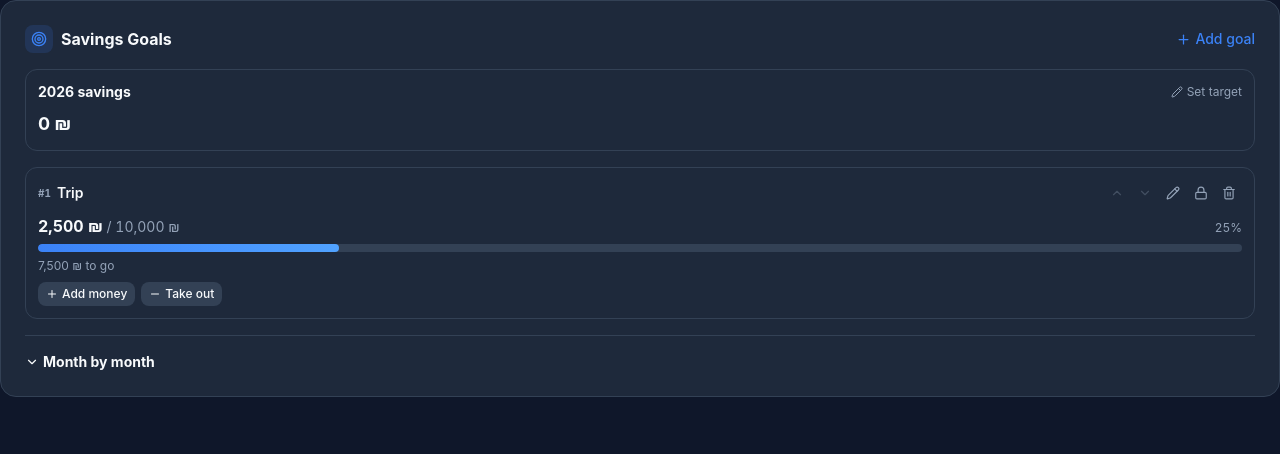
Scenario: GoalsSection › adding and taking out money › adds money as a dated entry with an optional note
Expected: the text "Trip" is shown, [57,183,84,203]
Click the button "Add money" at (87, 294), box [38,282,135,306]
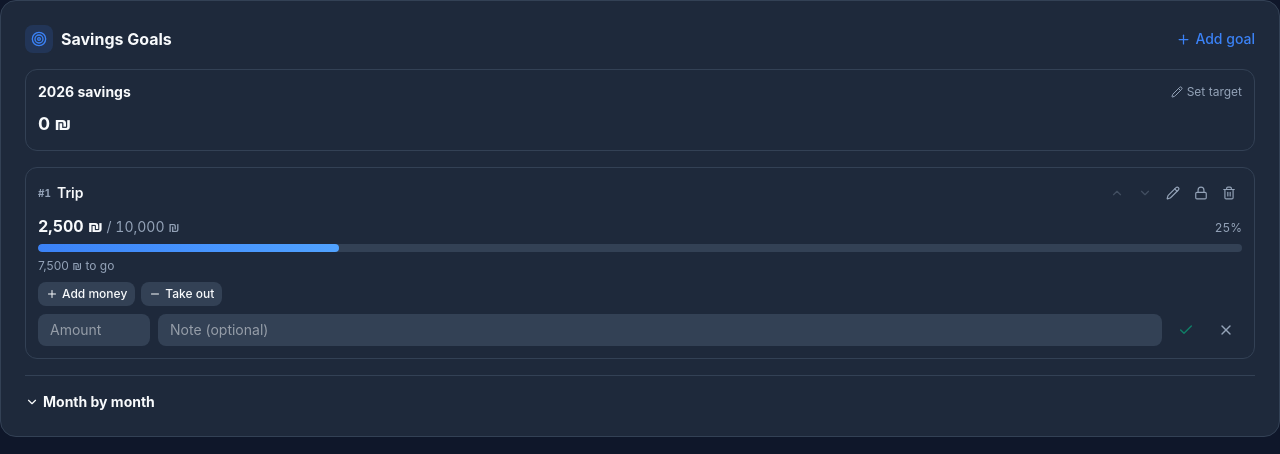
Type "500" into the number field named "Amount to add to Trip" at (94, 330), box [38,314,150,346]
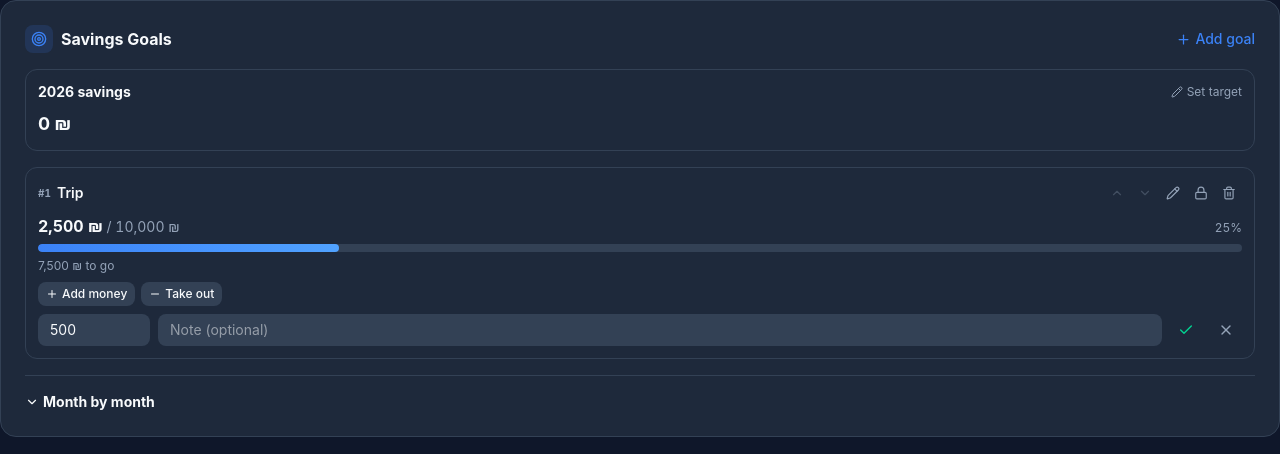
Type "Bonus" into the field labelled "Note" at (660, 330), box [158,314,1162,346]
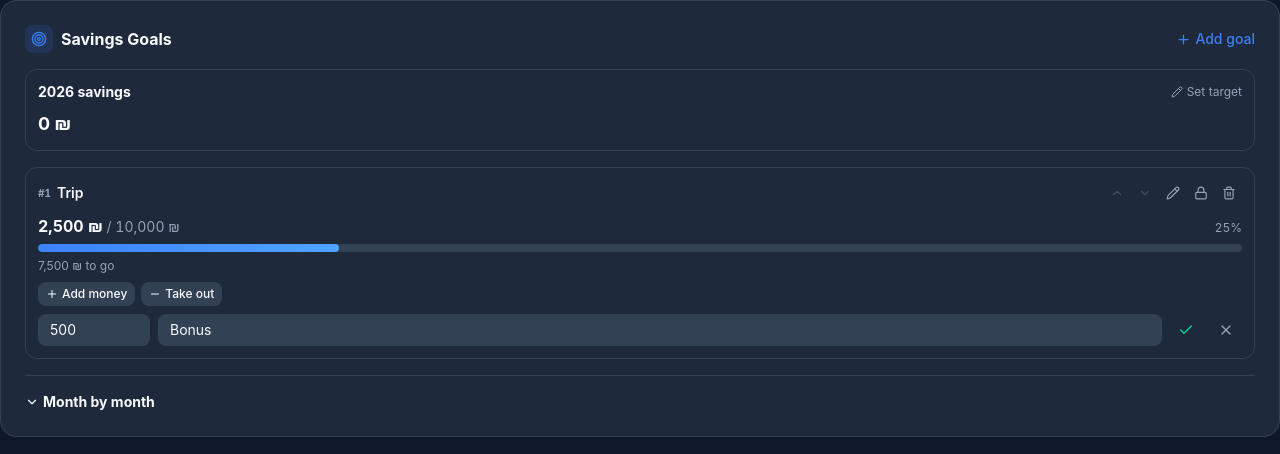
Click the button named "save" at (1186, 330), box [1170,314,1202,346]
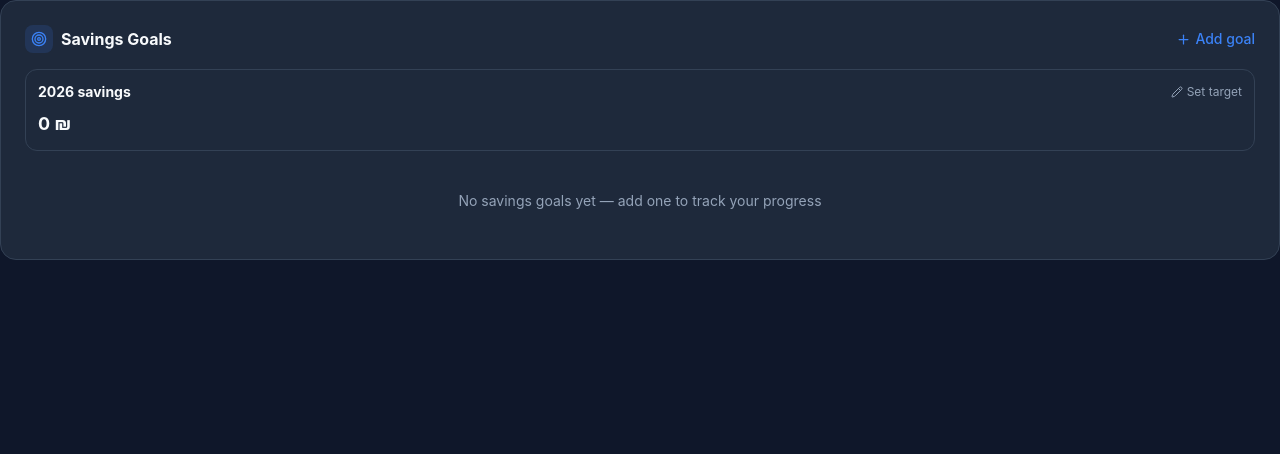
Now the form with test id "goal-entry-form" is gone
